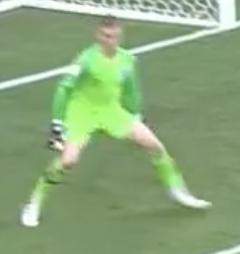goalkeeper: (8, 0, 222, 240)
